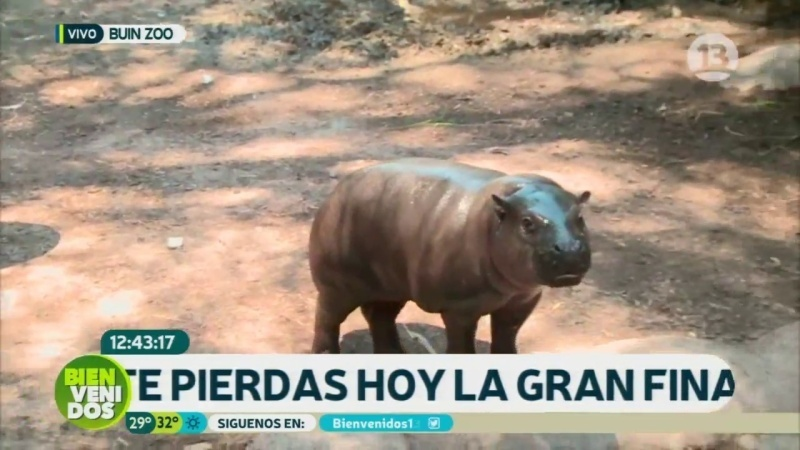hipopotamo: (272, 139, 622, 357)
